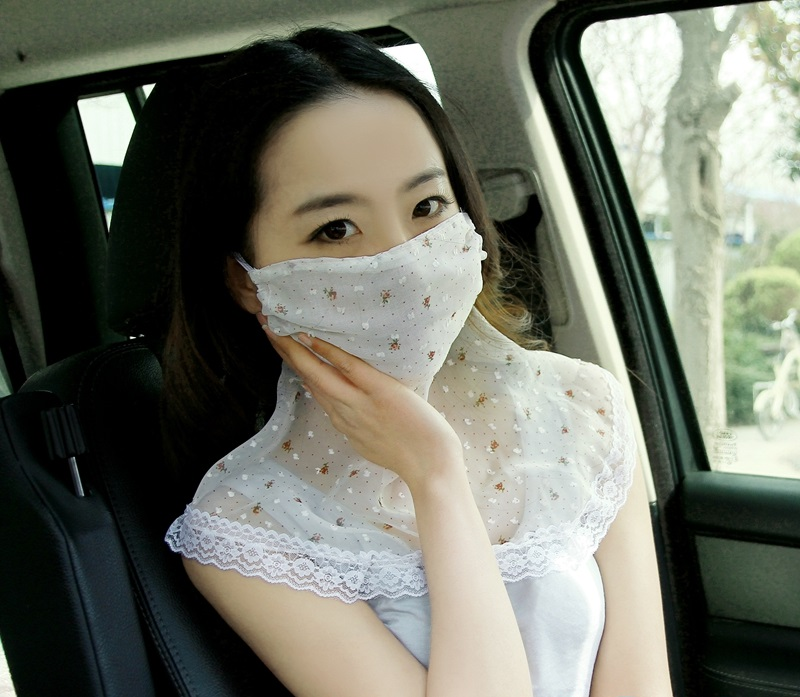face_mask: (259, 97, 477, 388)
